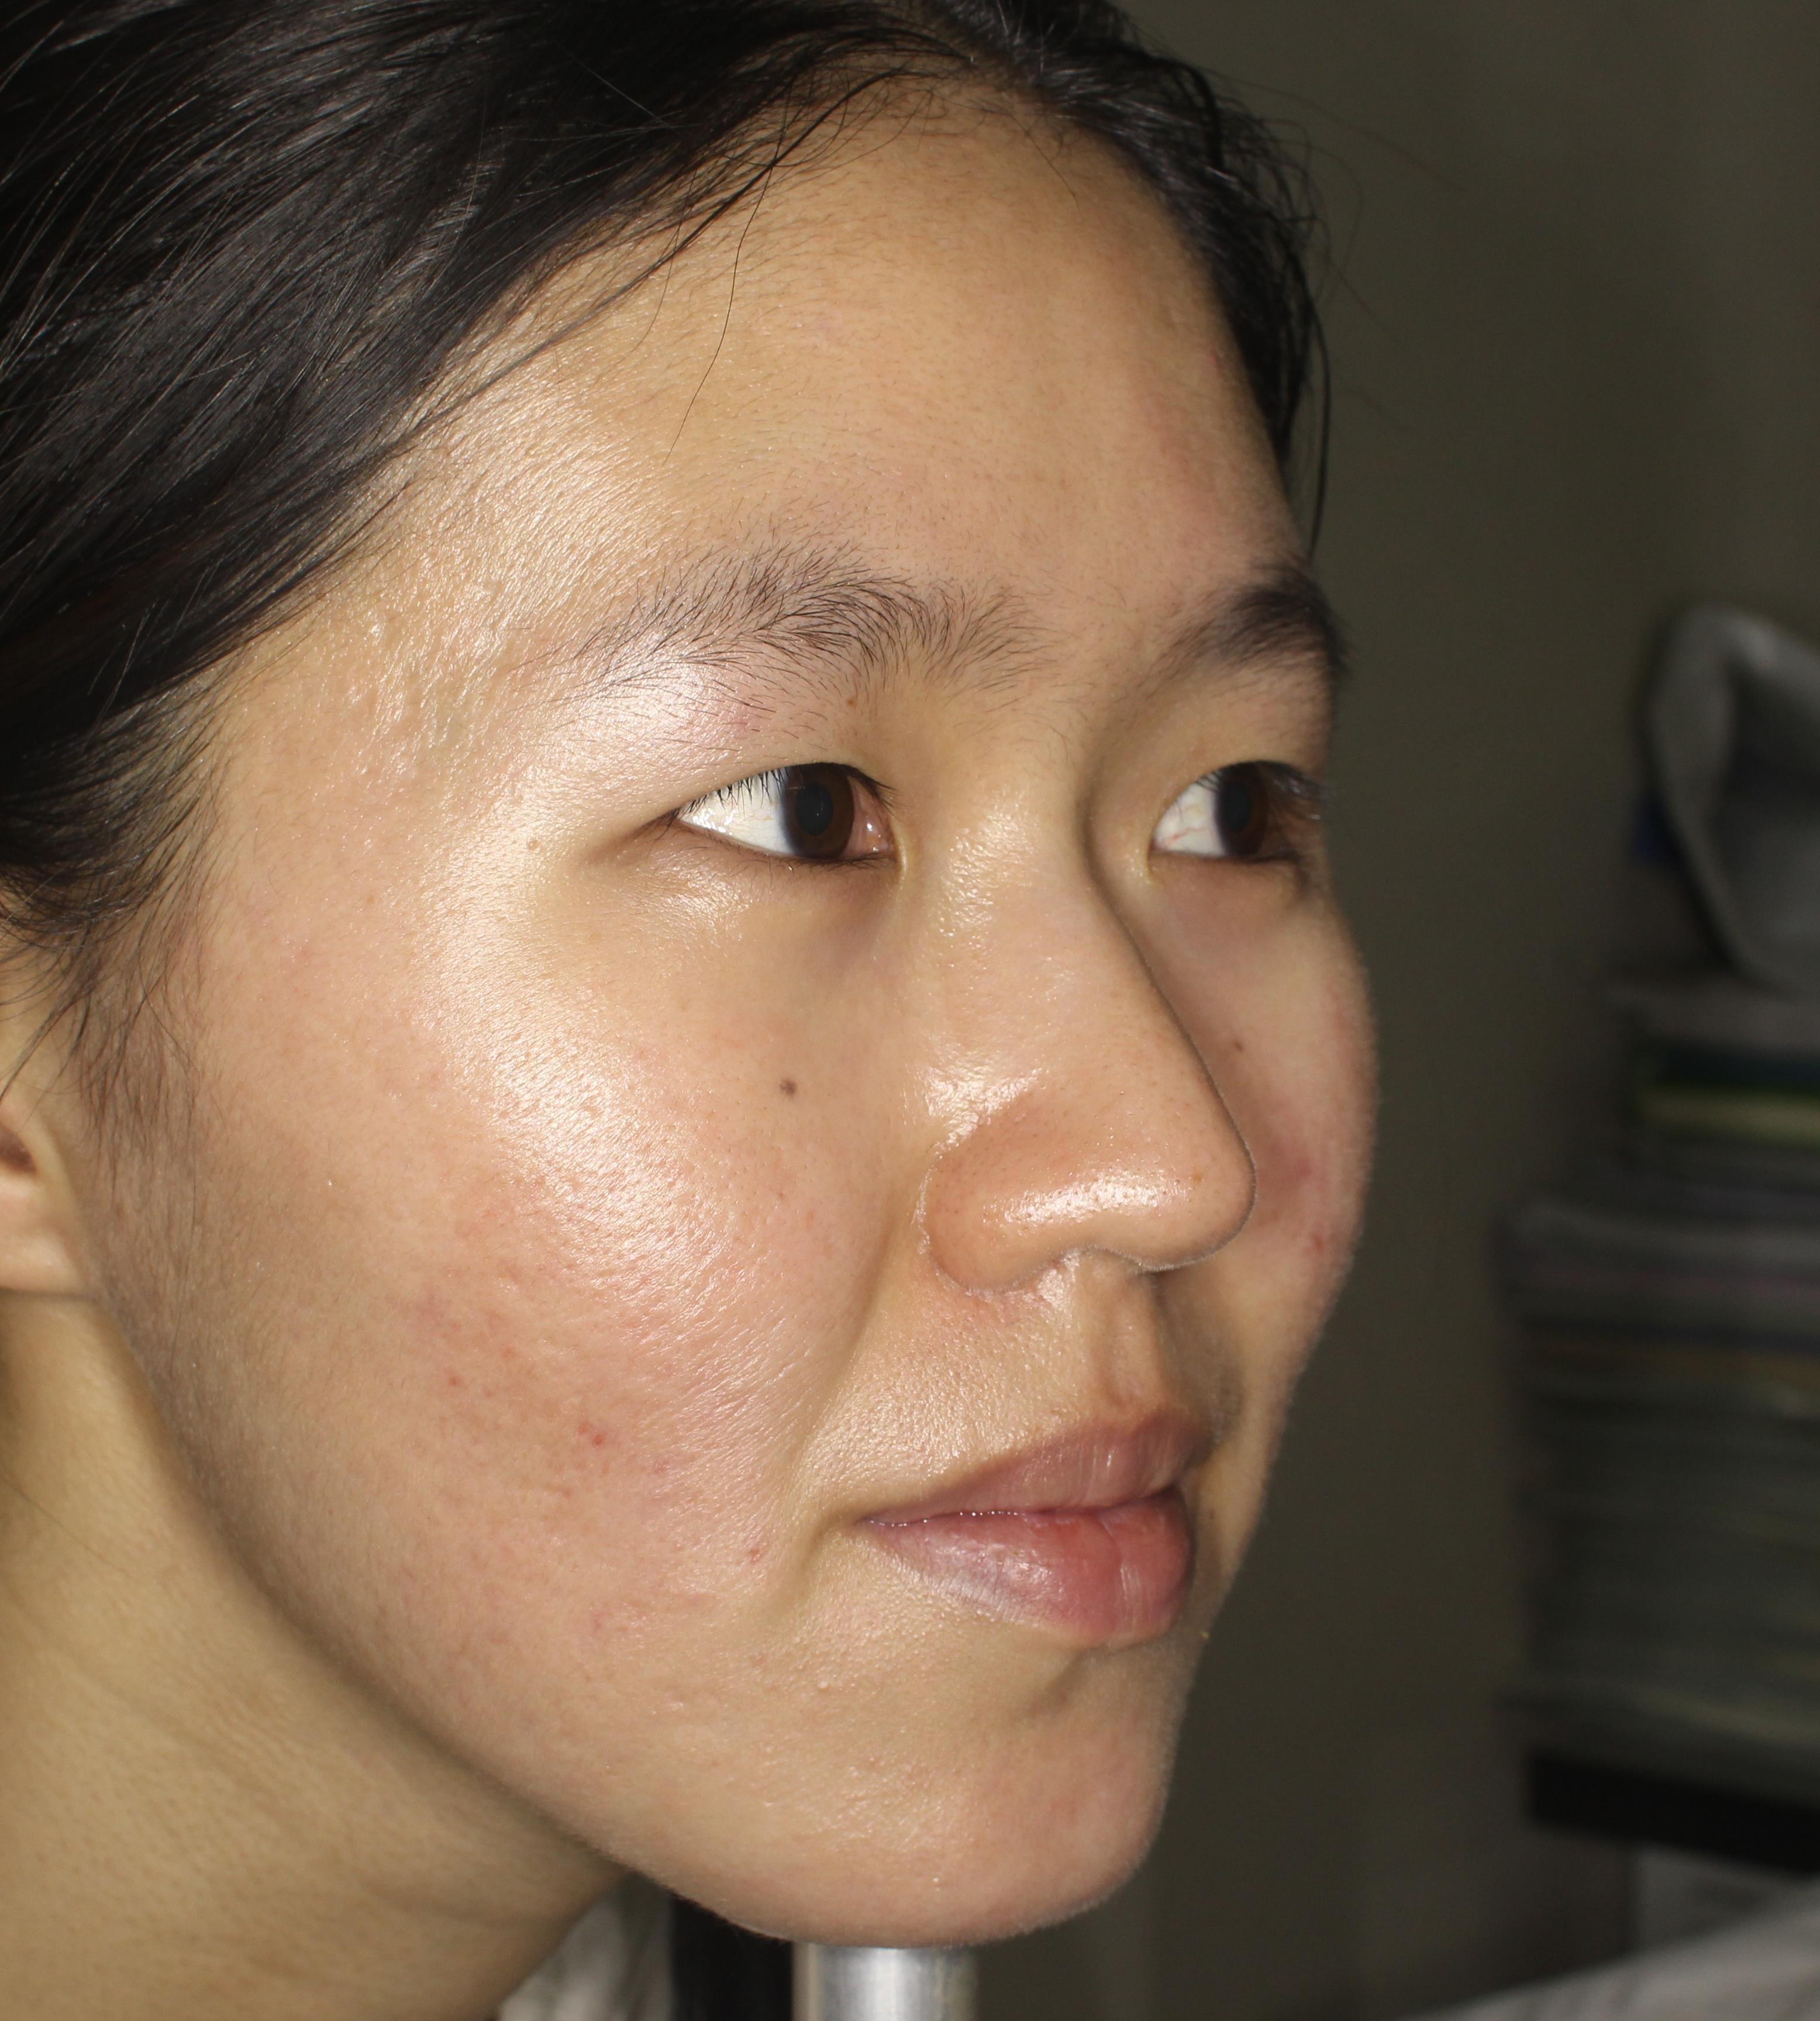fore: (552, 1410, 624, 1468)
